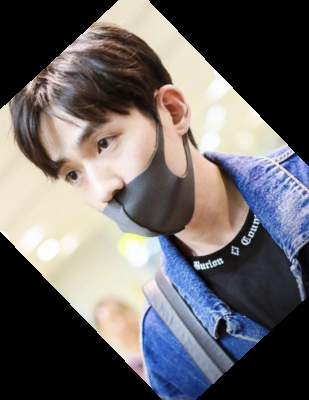mask_weared_incorrect: (1, 15, 198, 232)
